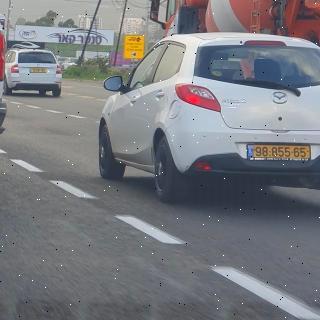LicensePlate: (255, 147, 310, 158)
